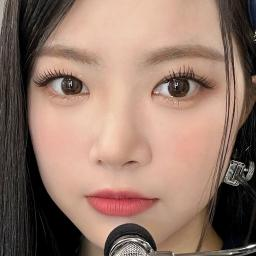face: (31, 0, 227, 222)
